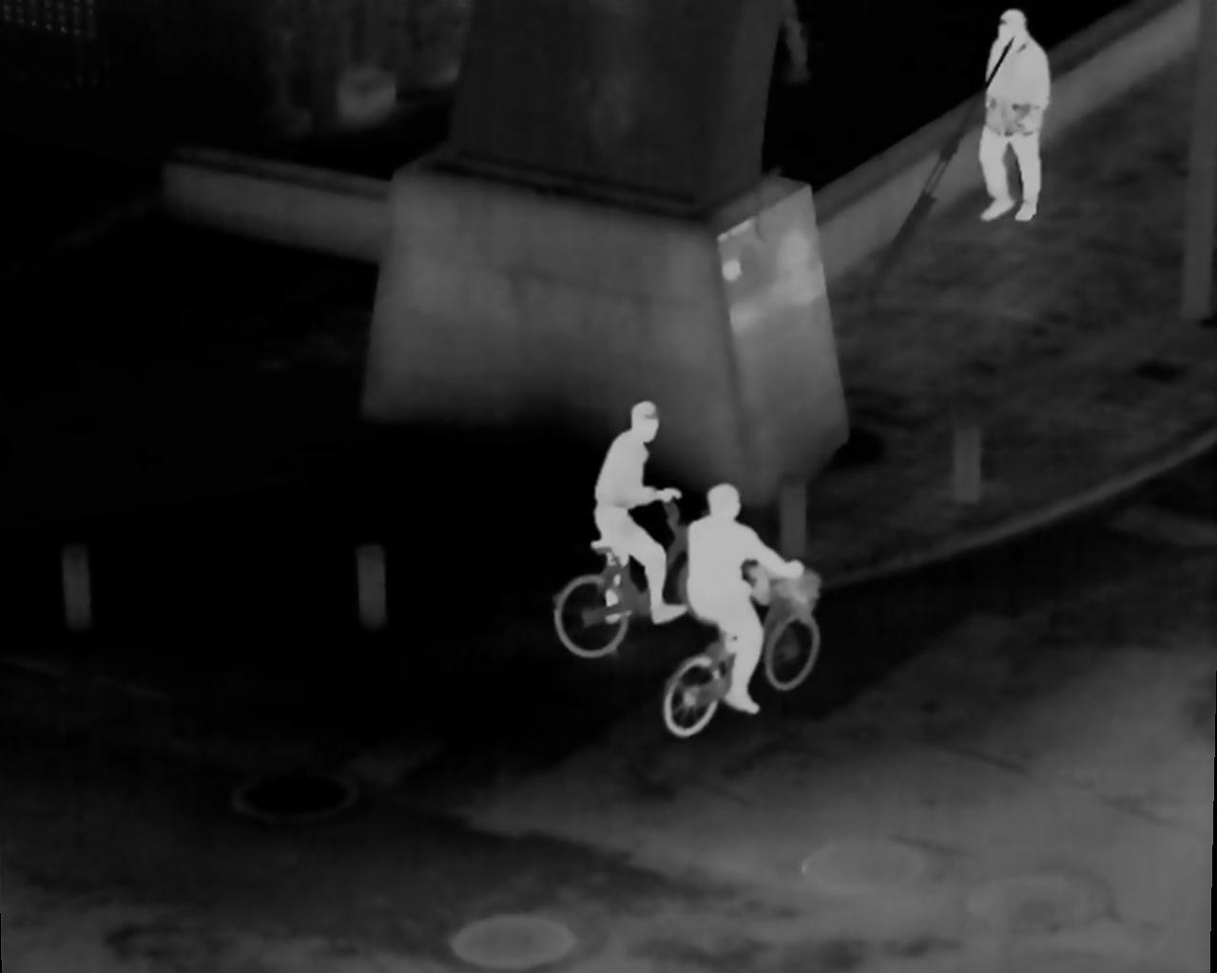person: (576, 400, 698, 639), (676, 485, 795, 715), (982, 10, 1052, 222)
